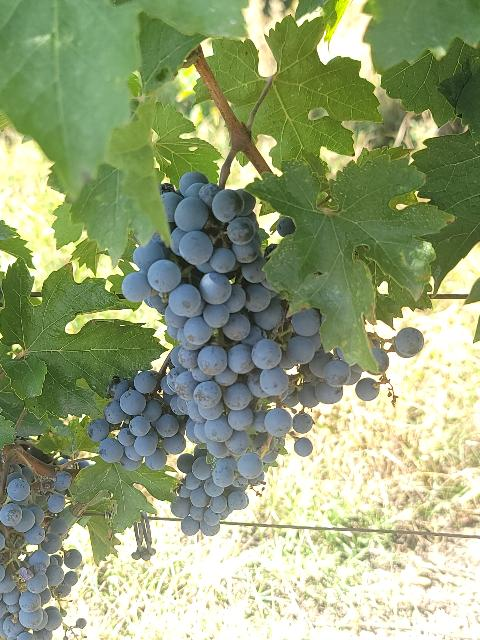grapes: (129, 171, 321, 480), (0, 502, 76, 640)
